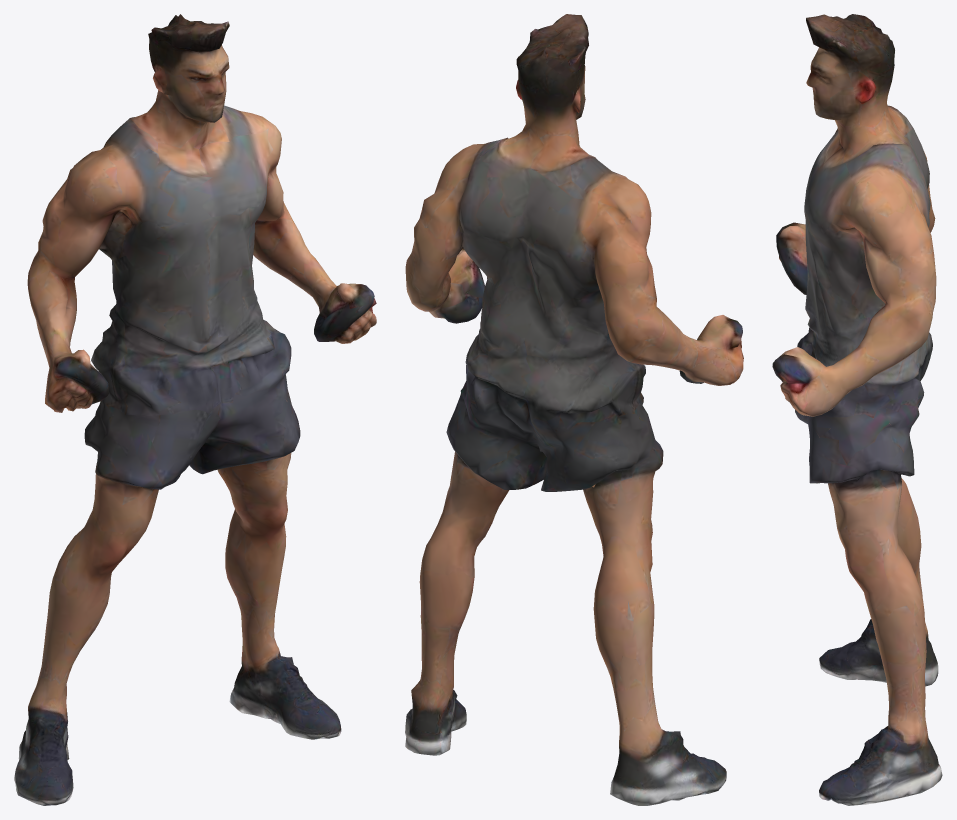
Rendered from human-training.glb.
3 views of the same model, side by side, from view 1: azimuth 30°, elevation 25°; view 2: azimuth 150°, elevation 25°; view 3: azimuth 270°, elevation 25° (orthographic). The views are drawn at different scales.
Visible parts, largest first — view 1: Training; view 2: Training; view 3: Training.
Boxes of the visible parts, box(x1,y1,x2,y2) form: Training: box(14, 14, 376, 805); Training: box(405, 14, 743, 805); Training: box(772, 14, 942, 805).
Bounding box in the file's own units: 0.9198 × 2 × 0.428.
1 material, 1 textured.
